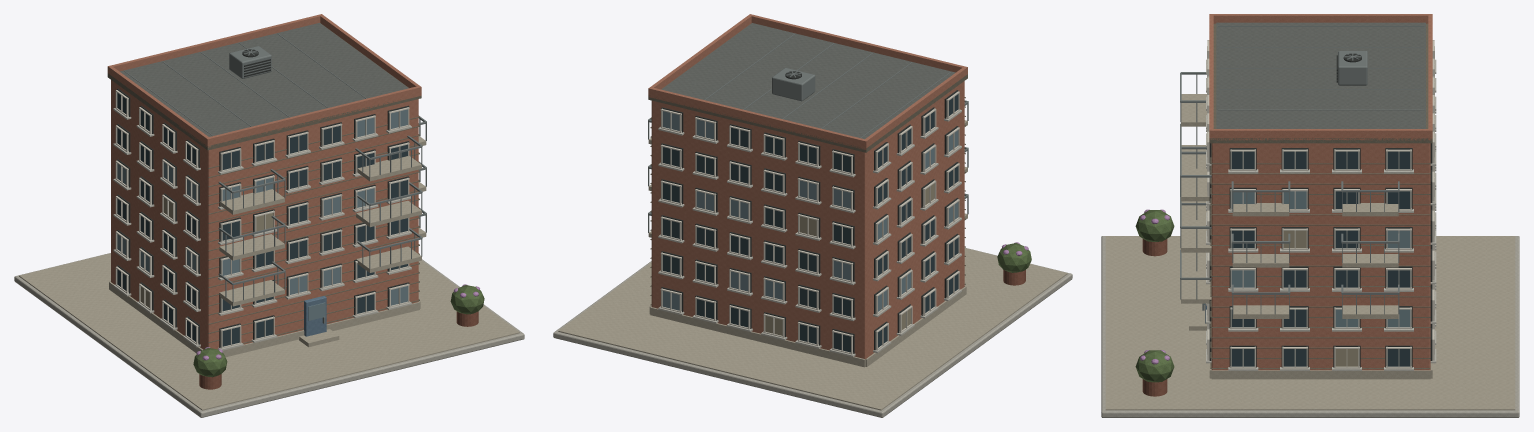
The model's file is EXP_PALAZZO_BRICK.glb.
3 renders of one model, left to right at view 1: azimuth 30°, elevation 25°; view 2: azimuth 150°, elevation 25°; view 3: azimuth 270°, elevation 25°, orthographic. The views are drawn at different scales.
Parts seen in each view (by area): view 1: EXP_PALAZZO_BRICK_Visual; view 2: EXP_PALAZZO_BRICK_Visual; view 3: EXP_PALAZZO_BRICK_Visual.
Boxes of the visible parts, x1,y1,x2,y2 form: EXP_PALAZZO_BRICK_Visual: (14, 14, 524, 417); EXP_PALAZZO_BRICK_Visual: (553, 14, 1072, 417); EXP_PALAZZO_BRICK_Visual: (1101, 14, 1519, 417).
Size of what is drawn, in the model's own units: 5.92 by 4.27 by 5.92.
17 materials, 11 textured.
